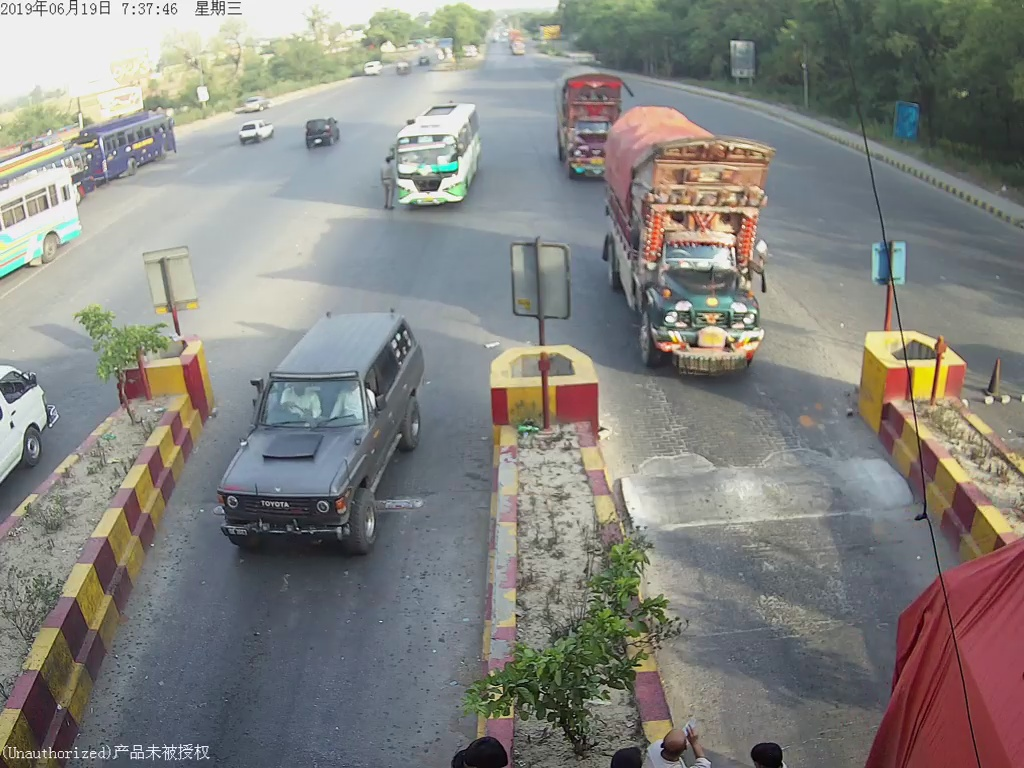Cat-1: (224, 310, 423, 551)
Cat-3: (391, 97, 479, 202)
Cat-4: (608, 113, 778, 372), (547, 66, 629, 177)
